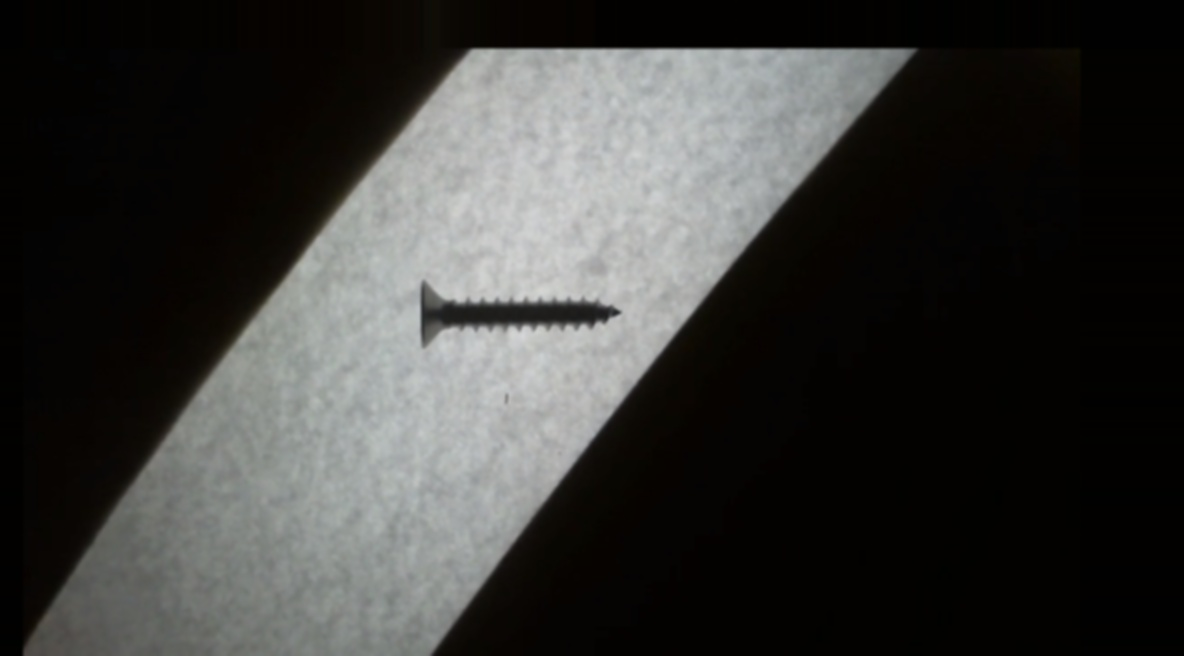S001: (403, 269, 629, 361)
